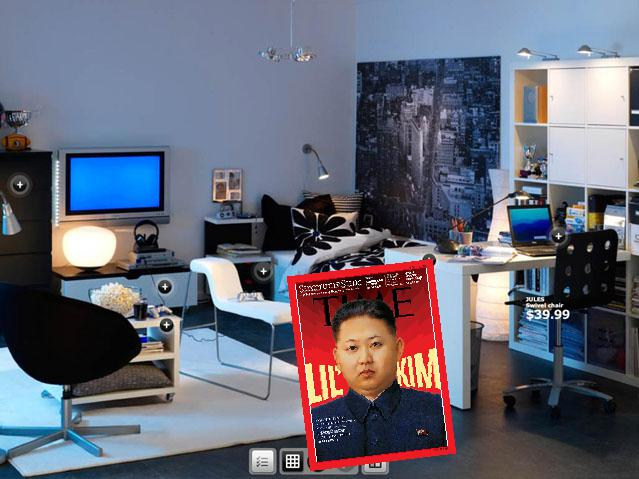times: (286, 257, 457, 474)
